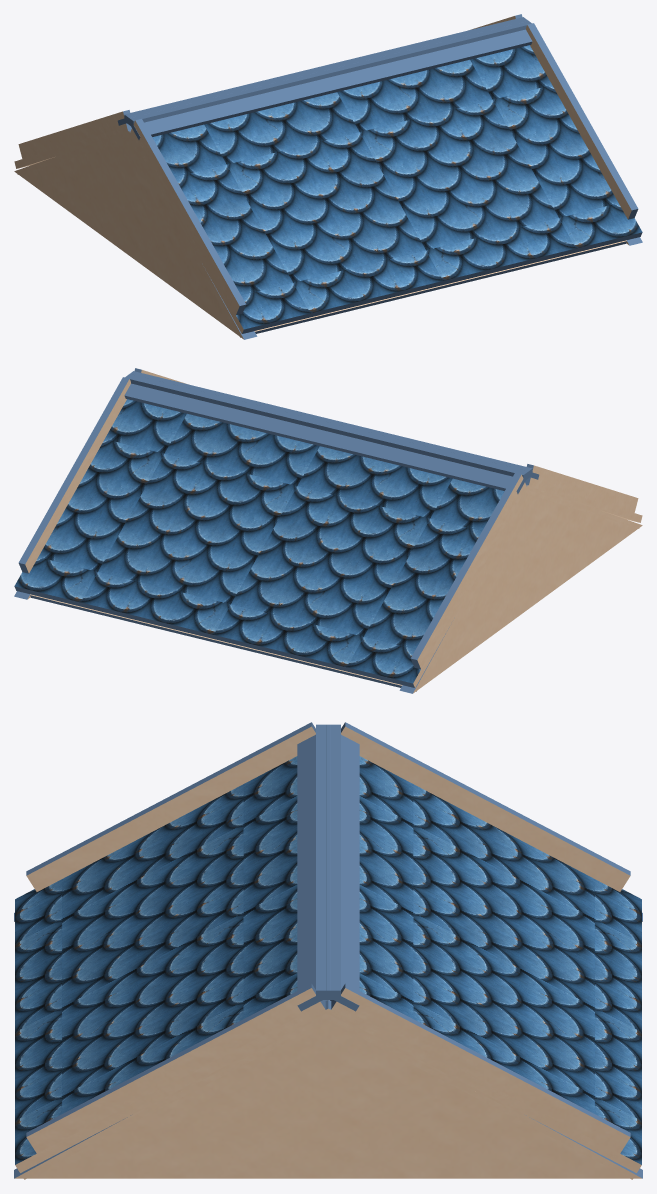
The model's file is Roof_Gable_3x3_NoEave.fbx.
3 views of the same model, one above another, from view 1: azimuth 30°, elevation 25°; view 2: azimuth 150°, elevation 25°; view 3: azimuth 270°, elevation 25° (orthographic). The views are drawn at different scales.
Visible parts, largest first — view 1: Roof_Gable_3x3_NoEave; view 2: Roof_Gable_3x3_NoEave; view 3: Roof_Gable_3x3_NoEave.
Part boxes in pixels (left/top/right/bottom): Roof_Gable_3x3_NoEave: left=14, top=14, right=642, bottom=339; Roof_Gable_3x3_NoEave: left=14, top=368, right=642, bottom=693; Roof_Gable_3x3_NoEave: left=14, top=722, right=642, bottom=1179.
Bounding box in the file's own units: 3 × 1.01 × 3.
2 materials, 2 textured.
